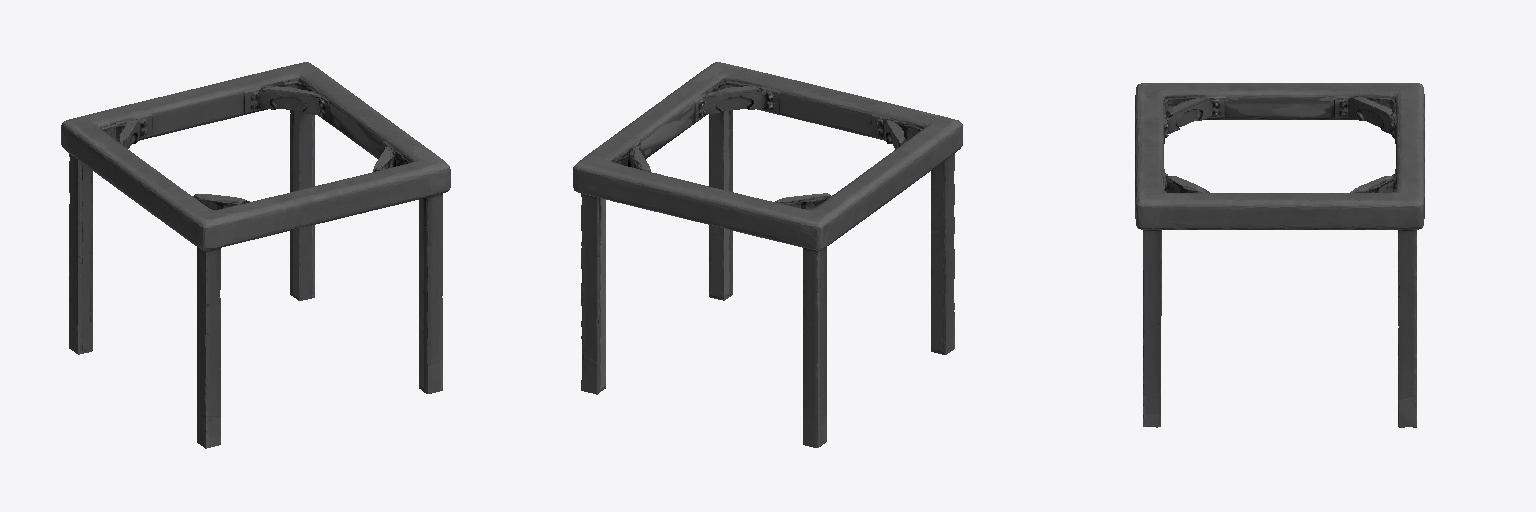
The picture shows the model from 3 angles: view 1: azimuth 30°, elevation 25°; view 2: azimuth 150°, elevation 25°; view 3: azimuth 270°, elevation 25°; orthographic projection.
Parts seen in each view (by area): view 1: Frame_Stand_[number redacted]_texture; view 2: Frame_Stand_[number redacted]_texture; view 3: Frame_Stand_[number redacted]_texture.
Part boxes in pixels (bbox=[...]): Frame_Stand_[number redacted]_texture: bbox=[61, 62, 450, 448]; Frame_Stand_[number redacted]_texture: bbox=[573, 62, 962, 447]; Frame_Stand_[number redacted]_texture: bbox=[1135, 83, 1424, 427].
Size of the model in its own units: 4.6 by 4 by 4.6.
1 materials, 1 textured.